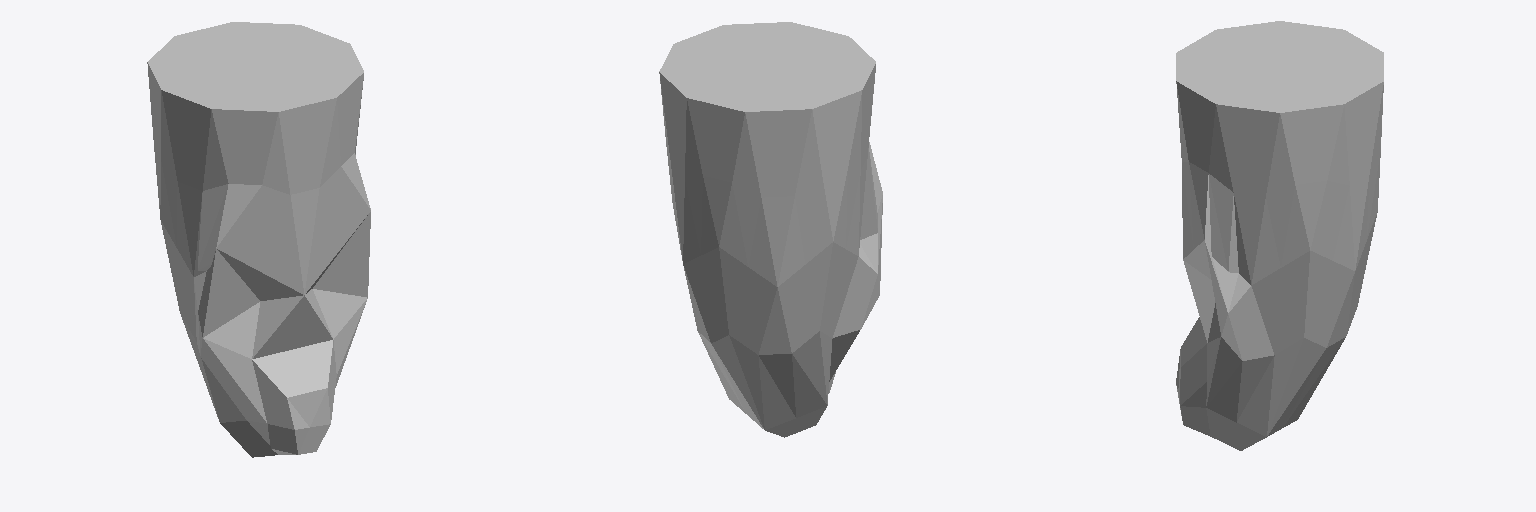
The model's file is tiki_inverted_firing_1.obj.
3 views of the same model, side by side, from view 1: azimuth 30°, elevation 25°; view 2: azimuth 150°, elevation 25°; view 3: azimuth 270°, elevation 25° (orthographic).
Parts seen in each view (by area): view 1: Icosphere; view 2: Icosphere; view 3: Icosphere.
Part boxes in pixels (x1,y1,x2,y2): Icosphere: (147,22,370,457); Icosphere: (659,22,882,437); Icosphere: (1176,21,1383,450).
Size of the model in its own units: 1.29 by 2.47 by 1.23.